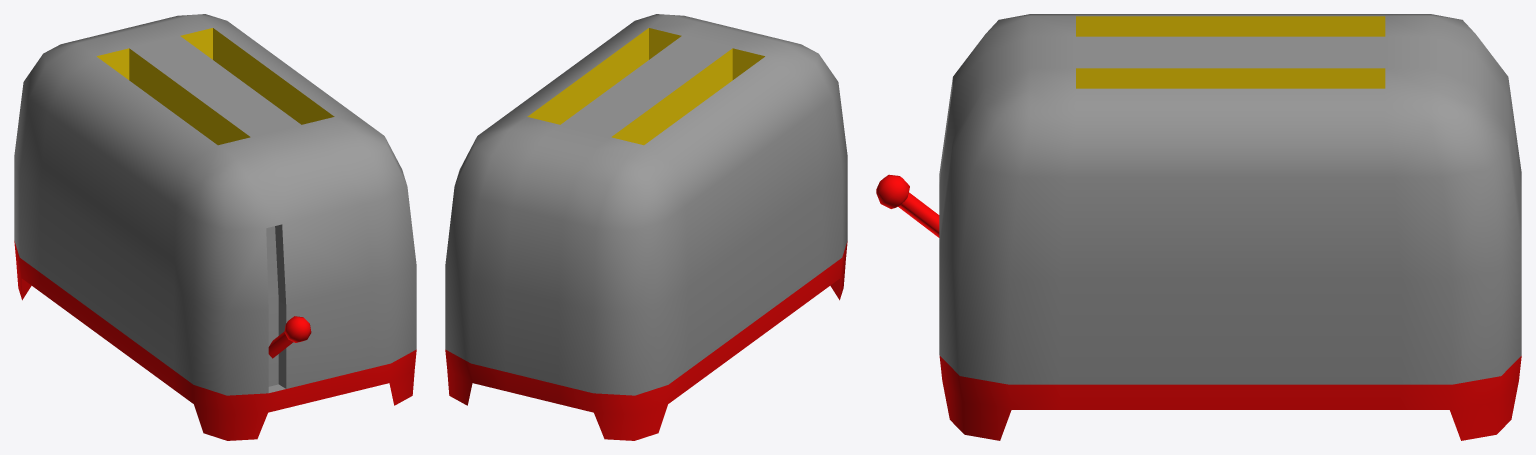
File: Toaster.FBX
The picture shows the model from 3 angles, left to right: view 1: azimuth 30°, elevation 25°; view 2: azimuth 150°, elevation 25°; view 3: azimuth 270°, elevation 25°; orthographic projection. The views are drawn at different scales.
Parts seen in each view (by area): view 1: ChamferBox006; view 2: ChamferBox006; view 3: ChamferBox006.
Part boxes in pixels (x1,y1,x2,y2): ChamferBox006: (14, 14, 416, 440); ChamferBox006: (445, 14, 847, 440); ChamferBox006: (876, 14, 1521, 440).
Size of the model in its own units: 13.07 by 14.64 by 26.38.
